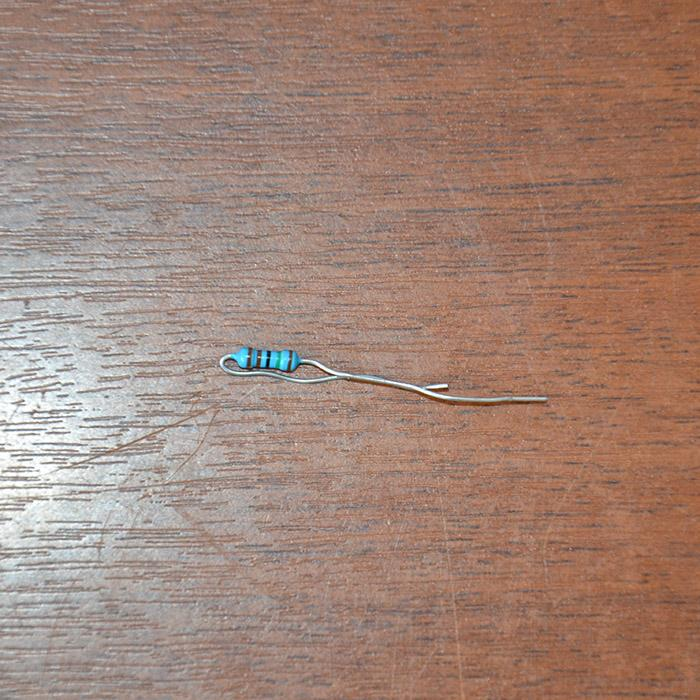resistor: (229, 347, 299, 372)
